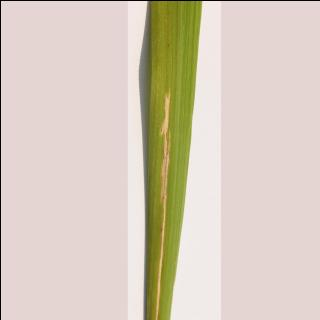Hawar-Daun: (147, 98, 172, 320)
